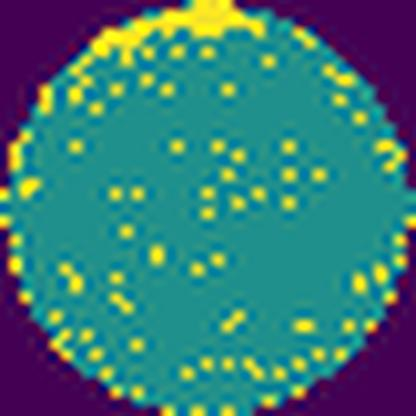Edge-Loc: (94, 0, 268, 74)
